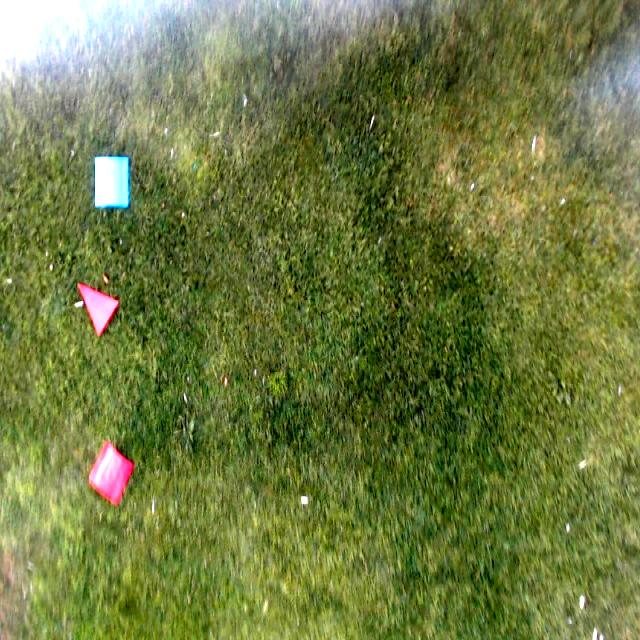blue_square: (94, 158, 130, 206)
red_square: (89, 443, 133, 505)
red_triangle: (79, 282, 118, 336)
